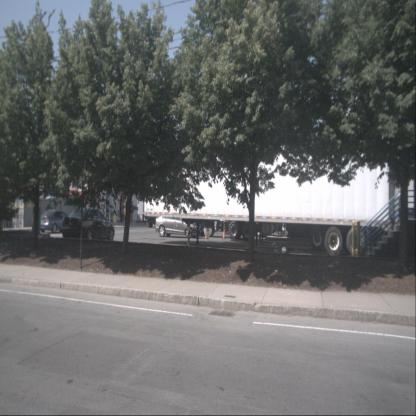movable_object-trafficcone: (204, 226, 209, 239), (222, 229, 226, 239)
vehicle-car: (62, 208, 115, 241), (155, 210, 200, 239), (38, 209, 74, 234)
